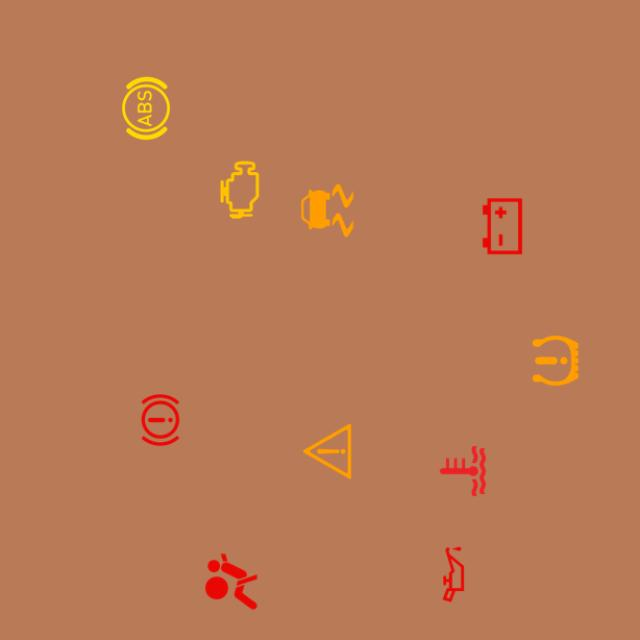Anti Lock Braking System: (111, 74, 180, 143)
Braking System Issue: (126, 386, 195, 454)
Charging System Issue: (468, 192, 537, 260)
Check Engine: (205, 155, 274, 224)
Electronic Stability Problem -ESP-: (293, 176, 362, 245)
Engine Overheating Warning Light: (428, 436, 498, 506)
Low Engine Oil Warning Light: (419, 540, 488, 609)
Low Tire Pressure Warning Light: (521, 326, 590, 395)
Master warning light: (293, 417, 362, 486)
SRS-Airbag: (197, 547, 266, 616)
